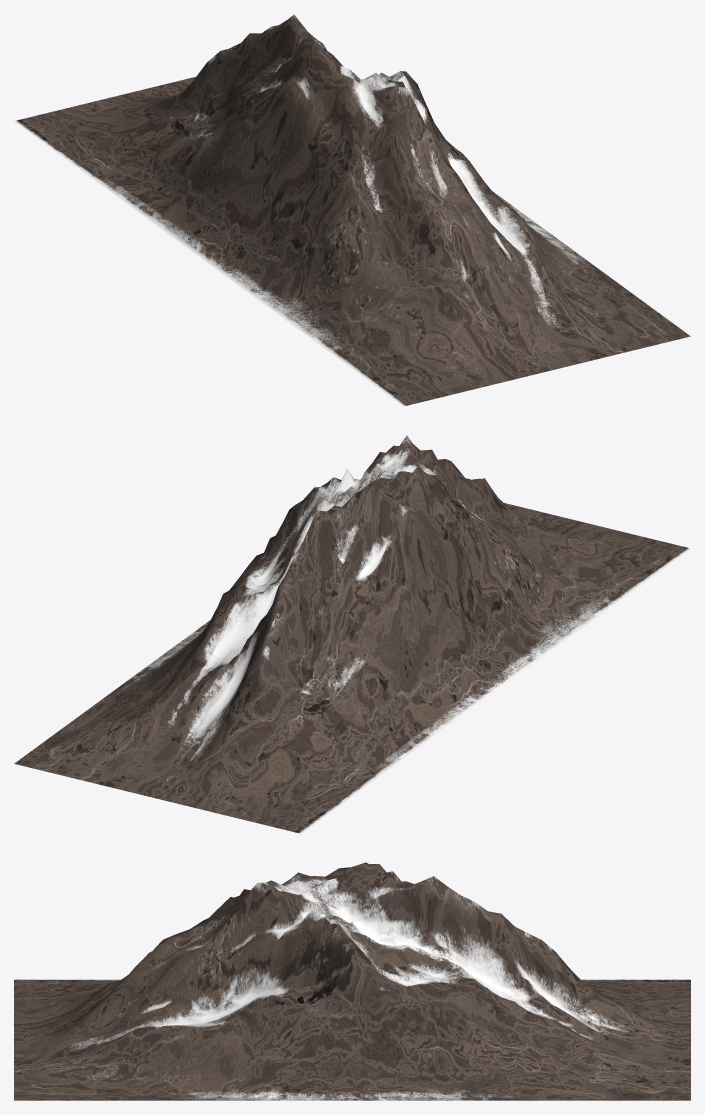
The model's file is mountain_low_poly_for_distant_mountains.glb.
The picture shows the model from 3 angles, top to bottom: view 1: azimuth 30°, elevation 25°; view 2: azimuth 150°, elevation 25°; view 3: azimuth 270°, elevation 25°; orthographic projection. The views are drawn at different scales.
Parts seen in each view (by area): view 1: Object_2; view 2: Object_2; view 3: Object_2.
Boxes of the visible parts, left/top/right/bottom form: Object_2: left=14, top=14, right=690, bottom=406; Object_2: left=14, top=435, right=690, bottom=833; Object_2: left=14, top=862, right=690, bottom=1100.
Size of the model in its own units: 600 by 376 by 1411.
1 material, 1 textured.
